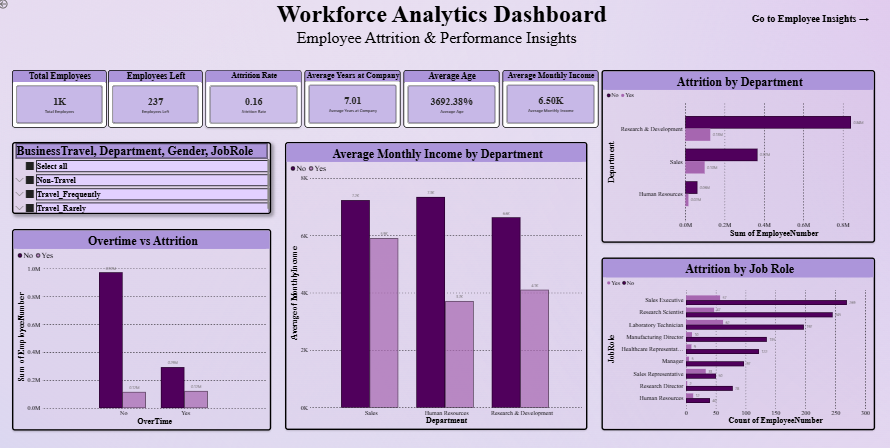

Layout of this report page (visuals, bound fields, positions):
{"tool":"powerbi","page":{"name":"Executive Dashboard","canvas":[3000,1500],"ordinal":0},"visuals":[{"type":"cardVisual","title":"Total Employees","fields":{"Data":["WA_Fn-UseC_-HR-Employee-Attrition.Total Employees"]},"box":[48,240,315,192],"z":0},{"type":"cardVisual","title":"Employees Left","fields":{"Data":["WA_Fn-UseC_-HR-Employee-Attrition.Employees Left"]},"box":[370,240,315,192],"z":1000},{"type":"cardVisual","title":"Attrition Rate","fields":{"Data":["WA_Fn-UseC_-HR-Employee-Attrition.Attrition Rate"]},"box":[695,240,320,192],"z":2000},{"type":"cardVisual","title":"Average Monthly Income","fields":{"Data":["WA_Fn-UseC_-HR-Employee-Attrition.Average Monthly Income"]},"box":[1685,240,320,192],"z":3000},{"type":"cardVisual","title":"Average Age","fields":{"Data":["WA_Fn-UseC_-HR-Employee-Attrition.Average Age"]},"box":[1355,240,320,192],"z":4000},{"type":"cardVisual","title":"Average Years at Company","fields":{"Data":["WA_Fn-UseC_-HR-Employee-Attrition.Average Years at Company"]},"box":[1025,240,320,192],"z":5000},{"type":"clusteredBarChart","title":"Attrition by Department","fields":{"Category":["WA_Fn-UseC_-HR-Employee-Attrition.Department"],"Y":["Sum(WA_Fn-UseC_-HR-Employee-Attrition.EmployeeNumber)"],"Series":["WA_Fn-UseC_-HR-Employee-Attrition.Attrition"]},"box":[2016,240,912,576],"z":6000},{"type":"clusteredBarChart","title":"Attrition by Job Role","fields":{"Category":["WA_Fn-UseC_-HR-Employee-Attrition.JobRole"],"Y":["CountNonNull(WA_Fn-UseC_-HR-Employee-Attrition.EmployeeNumber)"],"Series":["WA_Fn-UseC_-HR-Employee-Attrition.Attrition"]},"box":[2016,864,912,576],"z":7000},{"type":"clusteredColumnChart","title":"Average Monthly Income by Department","fields":{"Category":["WA_Fn-UseC_-HR-Employee-Attrition.Department"],"Y":["Avg(WA_Fn-UseC_-HR-Employee-Attrition.MonthlyIncome)"]},"box":[96,3936,384,576],"z":8000},{"type":"clusteredColumnChart","title":"Overtime vs Attrition","fields":{"Category":["WA_Fn-UseC_-HR-Employee-Attrition.OverTime"],"Y":["Sum(WA_Fn-UseC_-HR-Employee-Attrition.EmployeeNumber)"],"Series":["WA_Fn-UseC_-HR-Employee-Attrition.Attrition"]},"box":[48,768,864,672],"z":9000},{"type":"slicer","fields":{"Values":["WA_Fn-UseC_-HR-Employee-Attrition.BusinessTravel","WA_Fn-UseC_-HR-Employee-Attrition.Department","WA_Fn-UseC_-HR-Employee-Attrition.Gender","WA_Fn-UseC_-HR-Employee-Attrition.JobRole"]},"box":[48,480,864,240],"z":10000},{"type":"actionButton","box":[0,0,100,40],"z":11000},{"type":"textbox","box":[-24,0,3024,96],"z":12000},{"type":"textbox","box":[-72,96,3072,96],"z":13000},{"type":"clusteredColumnChart","title":"Average Monthly Income by Department","fields":{"Category":["WA_Fn-UseC_-HR-Employee-Attrition.Department"],"Y":["Avg(WA_Fn-UseC_-HR-Employee-Attrition.MonthlyIncome)"],"Series":["WA_Fn-UseC_-HR-Employee-Attrition.Attrition"]},"box":[960,480,1008,960],"z":14000},{"type":"actionButton","title":"Go to Employee Insights →","box":[2496,48,432,48],"z":14001}]}

Visuals, with their boxes in screenshot pixels (x1, y1, x2, y2), scaled from the page's 3000x1500 canvas onto the 890x448 screenshot:
"Total Employees" cardVisual: [14, 72, 108, 129]
"Employees Left" cardVisual: [110, 72, 203, 129]
"Attrition Rate" cardVisual: [206, 72, 301, 129]
"Average Monthly Income" cardVisual: [500, 72, 595, 129]
"Average Age" cardVisual: [402, 72, 497, 129]
"Average Years at Company" cardVisual: [304, 72, 399, 129]
"Attrition by Department" clusteredBarChart: [598, 72, 869, 244]
"Attrition by Job Role" clusteredBarChart: [598, 258, 869, 430]
"Overtime vs Attrition" clusteredColumnChart: [14, 229, 271, 430]
slicer - WA_Fn-UseC_-HR-Employee-Attrition.BusinessTravel x WA_Fn-UseC_-HR-Employee-Attrition.Department: [14, 143, 271, 215]
actionButton: [0, 0, 30, 12]
textbox: [0, 0, 889, 29]
textbox: [0, 29, 889, 57]
"Average Monthly Income by Department" clusteredColumnChart: [285, 143, 584, 430]
"Go to Employee Insights →" actionButton: [740, 14, 869, 29]
